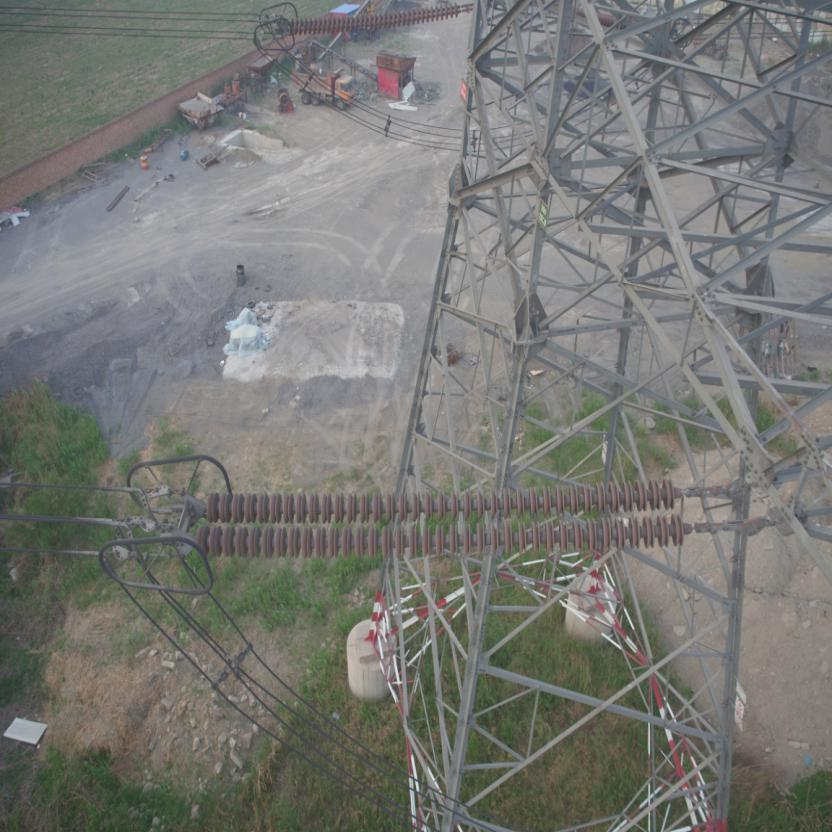insulator: (191, 474, 718, 565), (289, 1, 456, 36)
